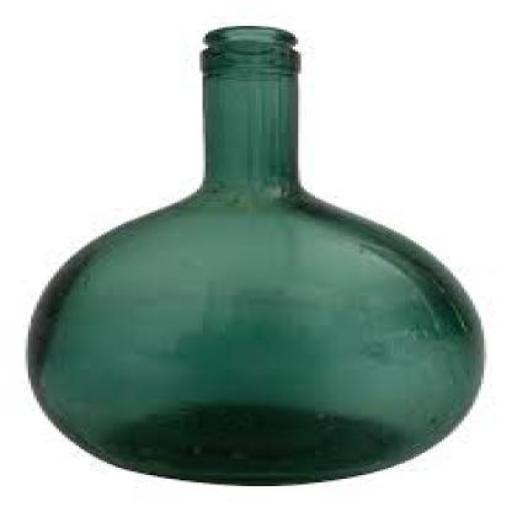glass: (25, 24, 481, 482)
